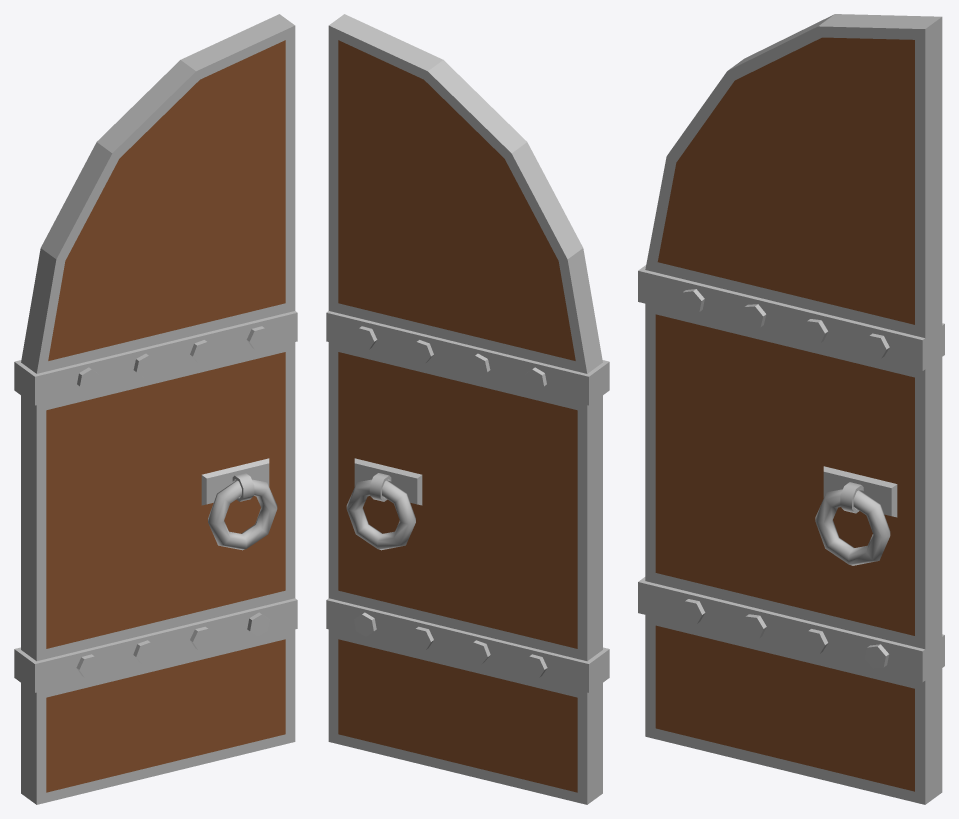
File: DoorRegularL.fbx
3 views of the same model, side by side, from view 1: azimuth 30°, elevation 25°; view 2: azimuth 150°, elevation 25°; view 3: azimuth 330°, elevation 25° (orthographic). The views are drawn at different scales.
Parts seen in each view (by area): view 1: DoorRegularL; view 2: DoorRegularL; view 3: DoorRegularL.
Part boxes in pixels (box(x1,y1,x2,y2)): DoorRegularL: box(14, 14, 297, 804); DoorRegularL: box(326, 14, 609, 804); DoorRegularL: box(638, 14, 944, 804).
Bounding box in the file's own units: 104 × 271 × 29.13.
